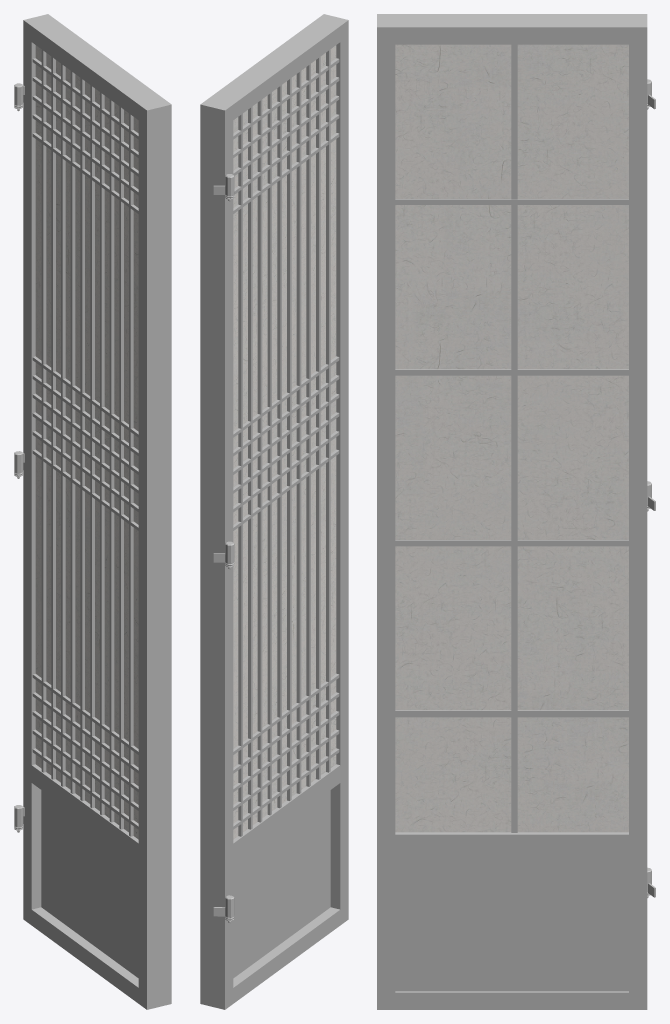
Rendered from SM_Door01H.fbx.
3 renders of one model, left to right at view 1: azimuth 30°, elevation 25°; view 2: azimuth 150°, elevation 25°; view 3: azimuth 270°, elevation 25°, orthographic. The views are drawn at different scales.
Parts seen in each view (by area): view 1: SM_Door01H; view 2: SM_Door01H; view 3: SM_Door01H.
Boxes of the visible parts, x1,y1,x2,y2 form: SM_Door01H: (14, 14, 171, 1009); SM_Door01H: (200, 14, 348, 1009); SM_Door01H: (377, 14, 655, 1009).
Size of the model in its own units: 7.69 by 50.58 by 197.
